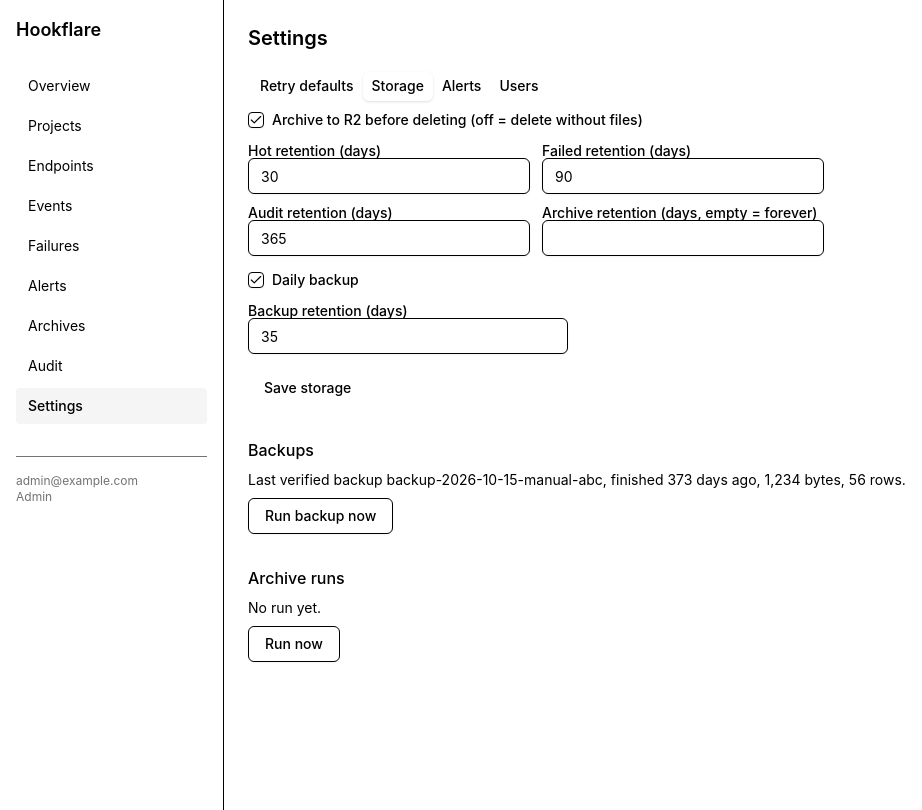
Scenario: Settings › Storage › starts a run now
Click the button "Run now" at point(294, 644), box [248,626,340,662]
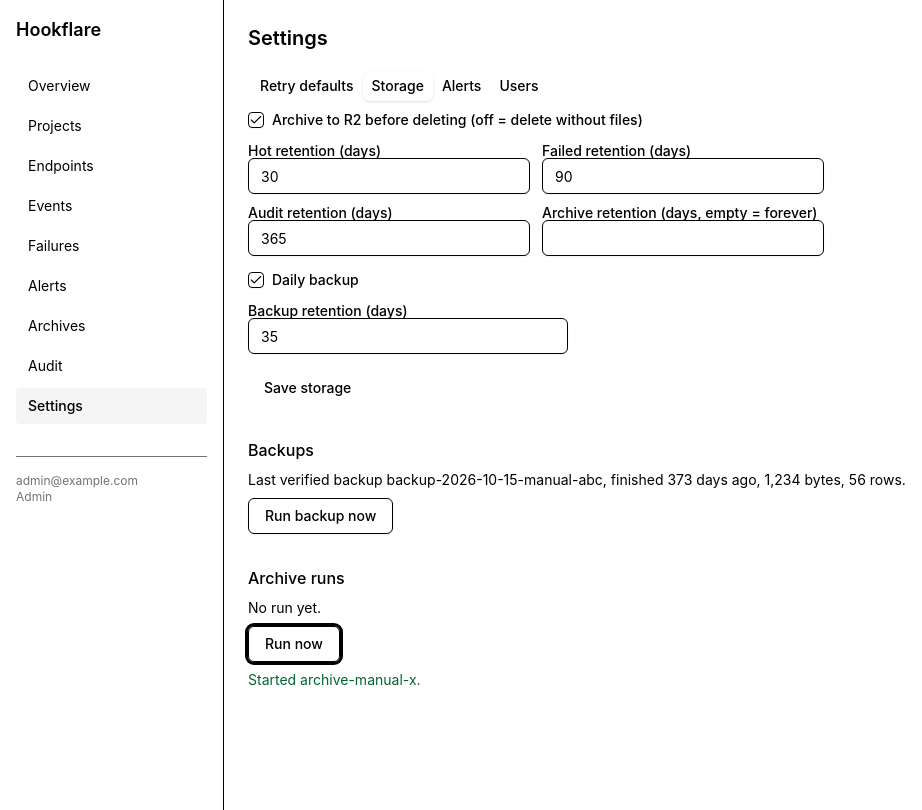
Expected: the text "Started archive-manual-x." is shown, [248,671,421,688]
